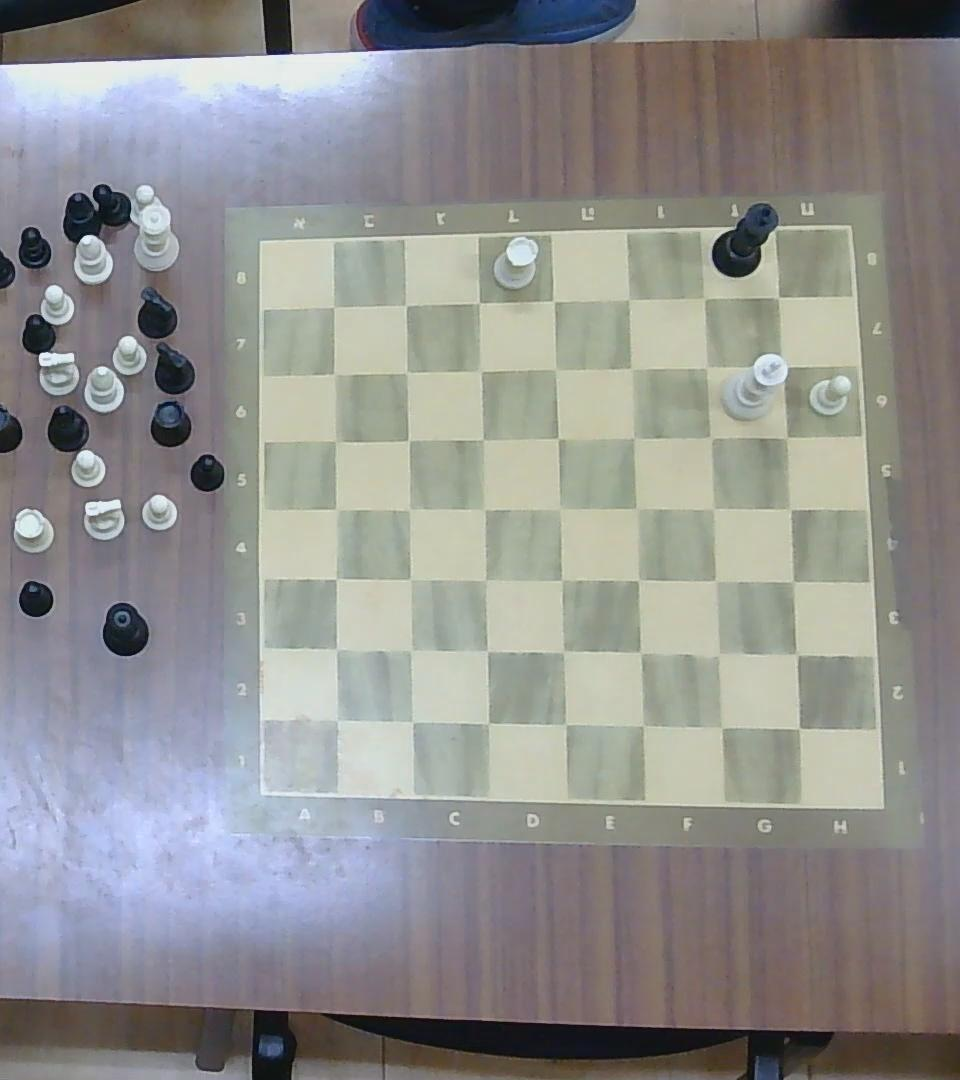xcorner: (702, 637, 734, 671), (471, 705, 502, 739), (776, 564, 808, 596), (548, 707, 579, 740), (626, 707, 657, 740), (783, 710, 813, 744), (781, 638, 812, 670), (699, 564, 730, 596), (320, 702, 351, 734), (705, 710, 735, 743), (625, 635, 655, 667), (548, 635, 578, 667), (471, 635, 501, 667), (395, 704, 425, 736), (622, 564, 652, 596), (538, 284, 568, 316), (541, 351, 571, 383), (547, 564, 577, 596), (464, 285, 493, 318), (470, 563, 500, 594), (698, 492, 728, 523), (775, 492, 805, 523), (616, 352, 646, 383), (768, 349, 799, 379), (317, 290, 347, 320), (465, 354, 495, 384), (621, 494, 651, 524), (395, 634, 424, 665), (391, 288, 420, 319), (619, 421, 648, 452), (319, 357, 348, 388), (394, 494, 423, 524), (321, 563, 350, 593), (321, 634, 350, 664), (545, 494, 574, 524), (543, 423, 572, 453), (615, 283, 644, 313), (393, 424, 423, 453), (771, 422, 801, 451), (395, 563, 423, 594), (392, 356, 421, 385), (697, 422, 726, 451), (693, 351, 722, 380), (691, 282, 720, 311), (470, 494, 498, 524), (467, 423, 495, 453), (322, 493, 350, 522), (765, 282, 793, 311), (321, 426, 349, 454)
